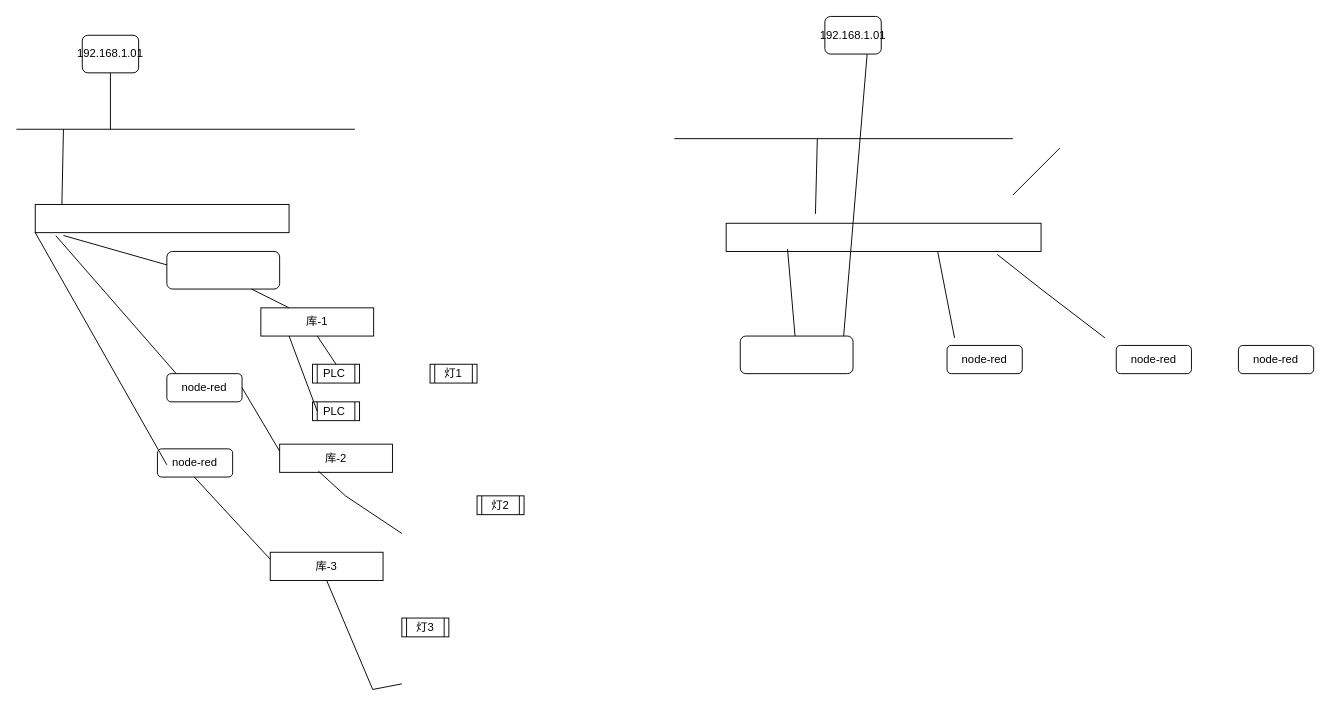
The diagram is 1330 pixels wide and 707 high, and some of its shapes have lost their labels. The box of each missing label's shape, as (x1, y1, x2, y2) in pixels:
Monogo ,node-red 192.168.1.03 10.1.1.2: (166, 251, 280, 289)
Monogo ,node-red 192.168.48.1: (739, 335, 853, 374)
核心-1: (34, 204, 289, 233)
核心-1 192.168.48.---: (725, 222, 1041, 251)
